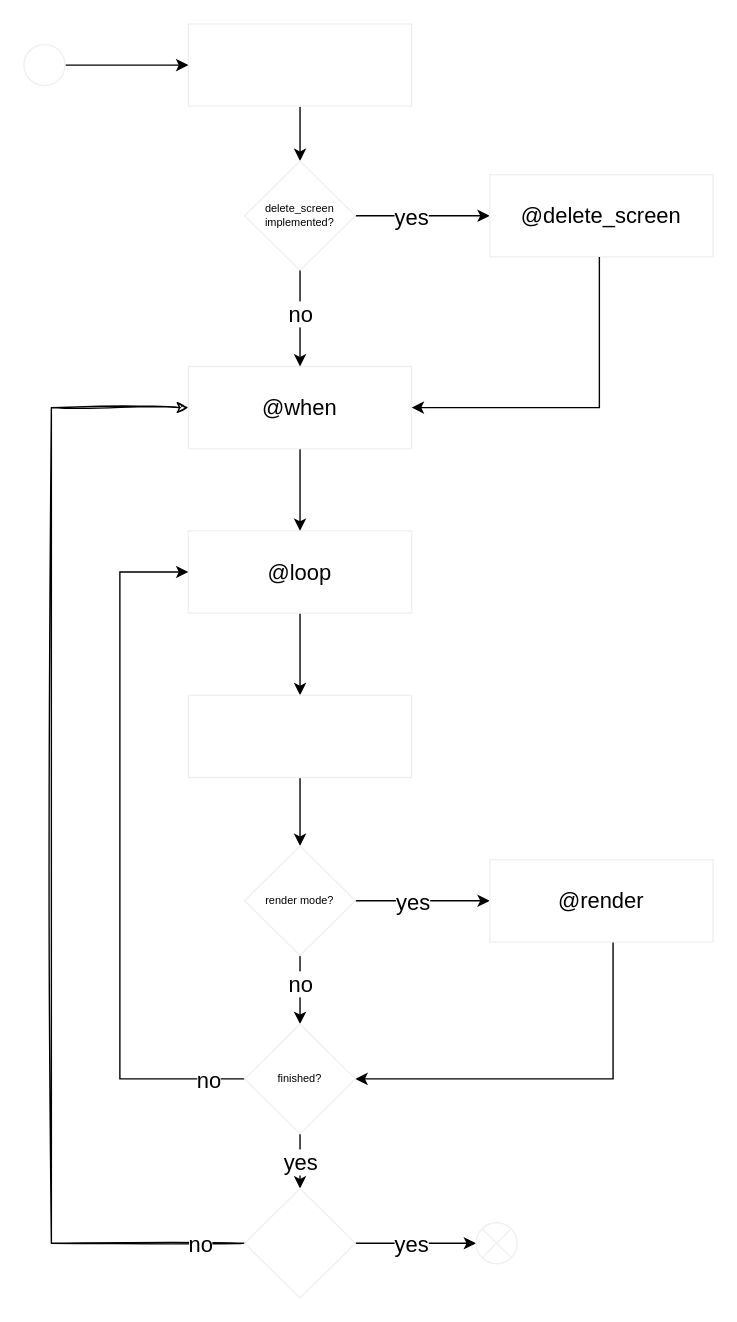
The diagram is 737 pixels wide and 1322 high, and some of its shapes have lost their labels. The box of each missing label's shape, as (x1, y1, x2, y2) in pixels:
@given: (187, 23, 412, 106)
@log: (187, 694, 412, 777)
finished training?: (243, 1187, 355, 1298)
